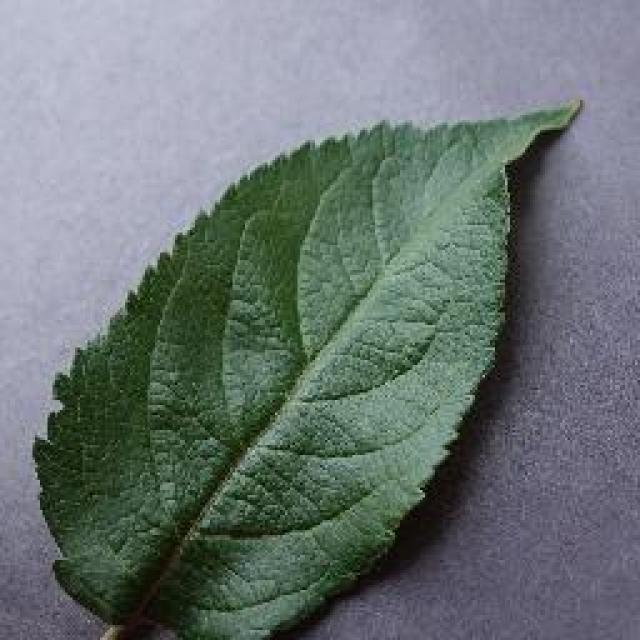apple healthy: (28, 95, 582, 637)
